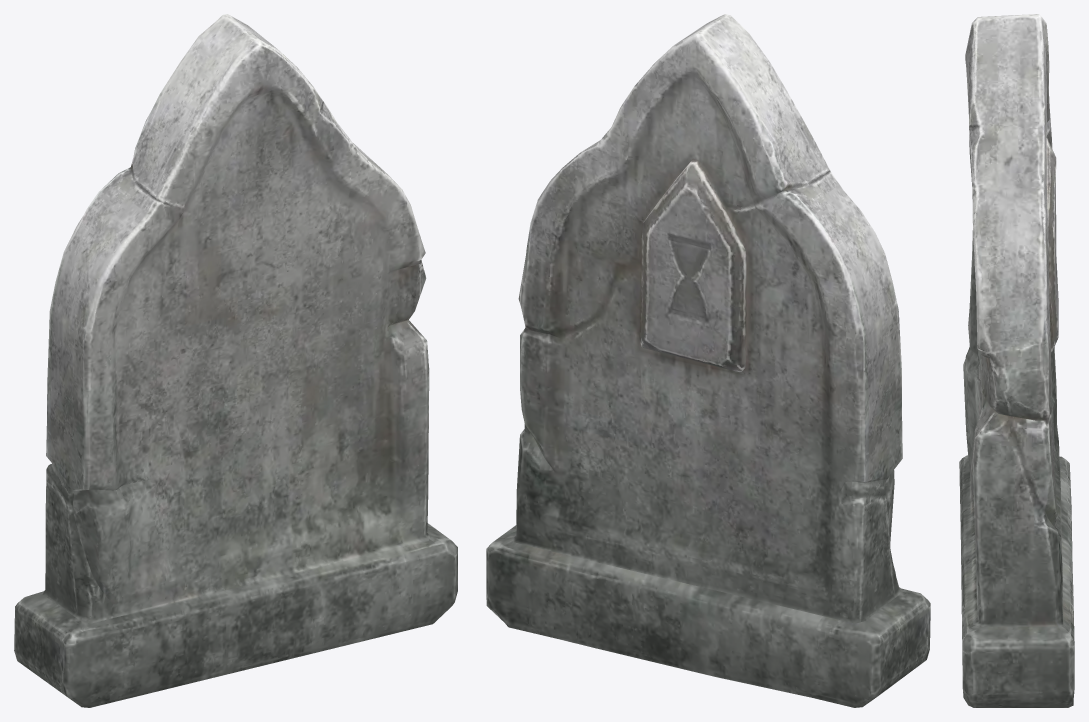
3 views of the same model, side by side, from view 1: azimuth 30°, elevation 25°; view 2: azimuth 150°, elevation 25°; view 3: azimuth 270°, elevation 25° (orthographic). The views are drawn at different scales.
Parts seen in each view (by area): view 1: SM_Tombstone_Stone_02_LOD0; view 2: SM_Tombstone_Stone_02_LOD0; view 3: SM_Tombstone_Stone_02_LOD0.
Boxes of the visible parts, x1,y1,x2,y2 form: SM_Tombstone_Stone_02_LOD0: [14, 14, 457, 707]; SM_Tombstone_Stone_02_LOD0: [486, 14, 930, 707]; SM_Tombstone_Stone_02_LOD0: [959, 14, 1074, 707].
Size of the model in its own units: 1.23 by 1.87 by 0.3202.
Materials: 1 (1 with a texture image).
